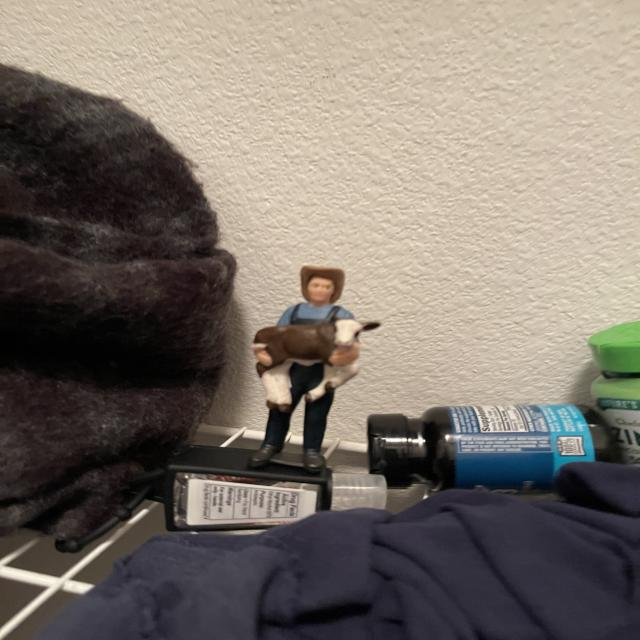cow: (254, 311, 388, 405), (301, 354, 364, 401)
person: (277, 265, 354, 324)
